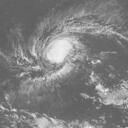cyclone: (43, 36, 79, 66)
